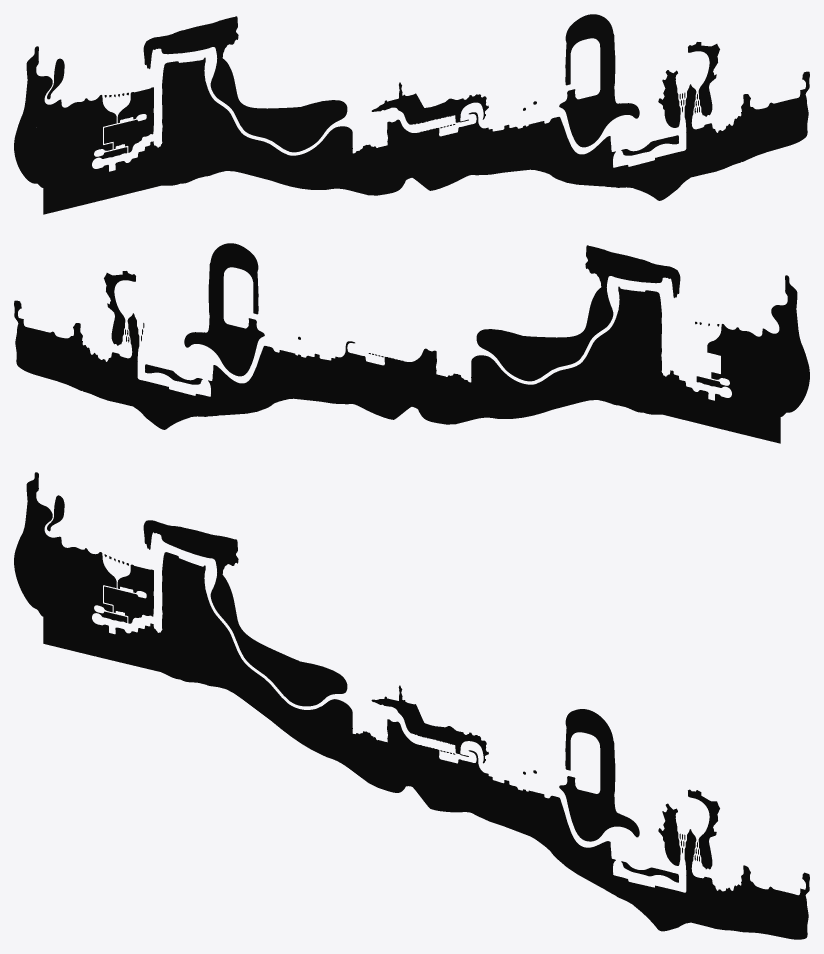
Rendered from island02.glb.
3 renders of one model, top to bottom at view 1: azimuth 30°, elevation 25°; view 2: azimuth 150°, elevation 25°; view 3: azimuth 330°, elevation 25°, orthographic.
Visible parts, largest first — view 1: island02; view 2: island02; view 3: island02.
Part boxes in pixels (x1,y1,x2,y2): island02: (14, 14, 809, 214); island02: (14, 243, 809, 443); island02: (14, 472, 809, 939).
Bounding box in the file's own units: 7271 × 2676 × 1.
Materials: 1 (1 with a texture image).
